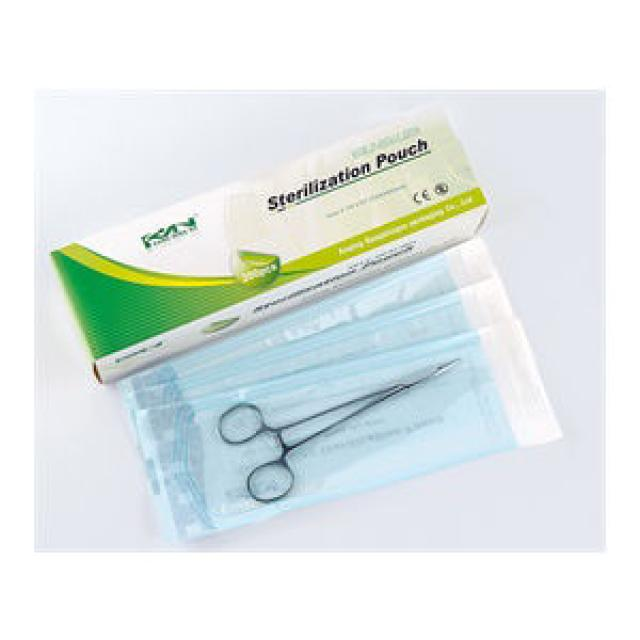B3: (167, 314, 580, 529)
